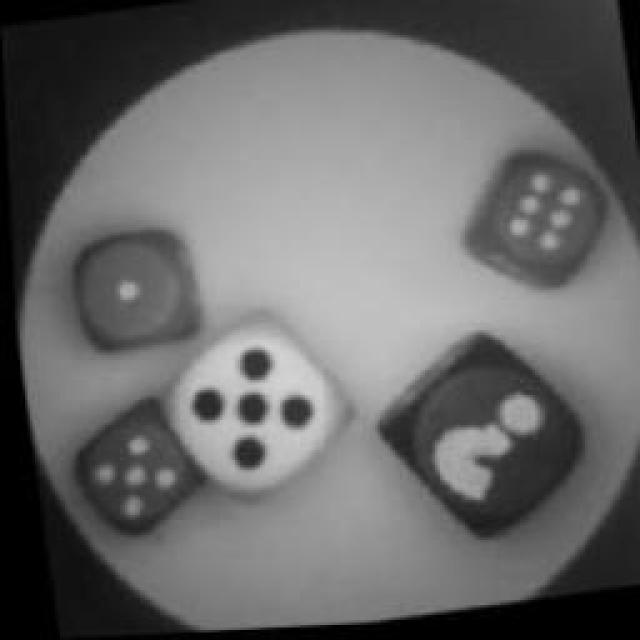dice_1: (61, 218, 209, 368)
dice_5: (145, 310, 355, 502), (68, 404, 192, 536)
dice_6: (450, 142, 615, 310)
